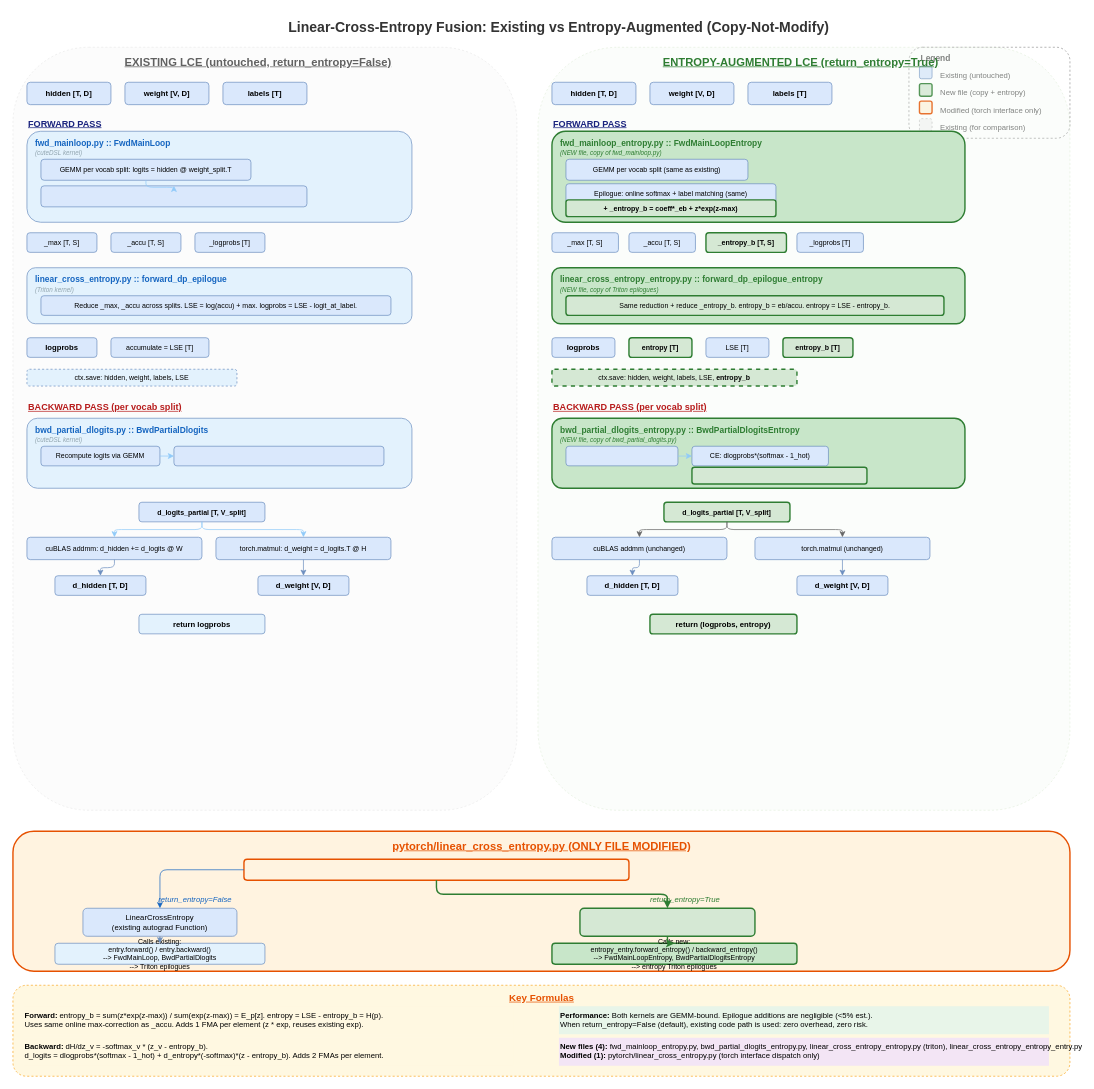
Some shapes in this 1094 by 1089 pixel diagram are drawn without their labels. Each missing label, with the box of its shape:
+ d_entropy*(-softmax)*(z - entropy_b): (691, 466, 867, 484)
d_logits = dlogprobs * (exp(z-LSE) - one_hot): (173, 446, 384, 466)
Epilogue: online softmax (_max, _accu) + label matching (_logprobs): (40, 185, 307, 207)
linear_cross_entropy(hidden, weight, labels, ..., return_entropy=False ): (243, 858, 629, 881)
LinearCrossEntropyWithEntropy (NEW autograd Function): (579, 907, 755, 937)
Recompute logits (same): (565, 446, 678, 466)
